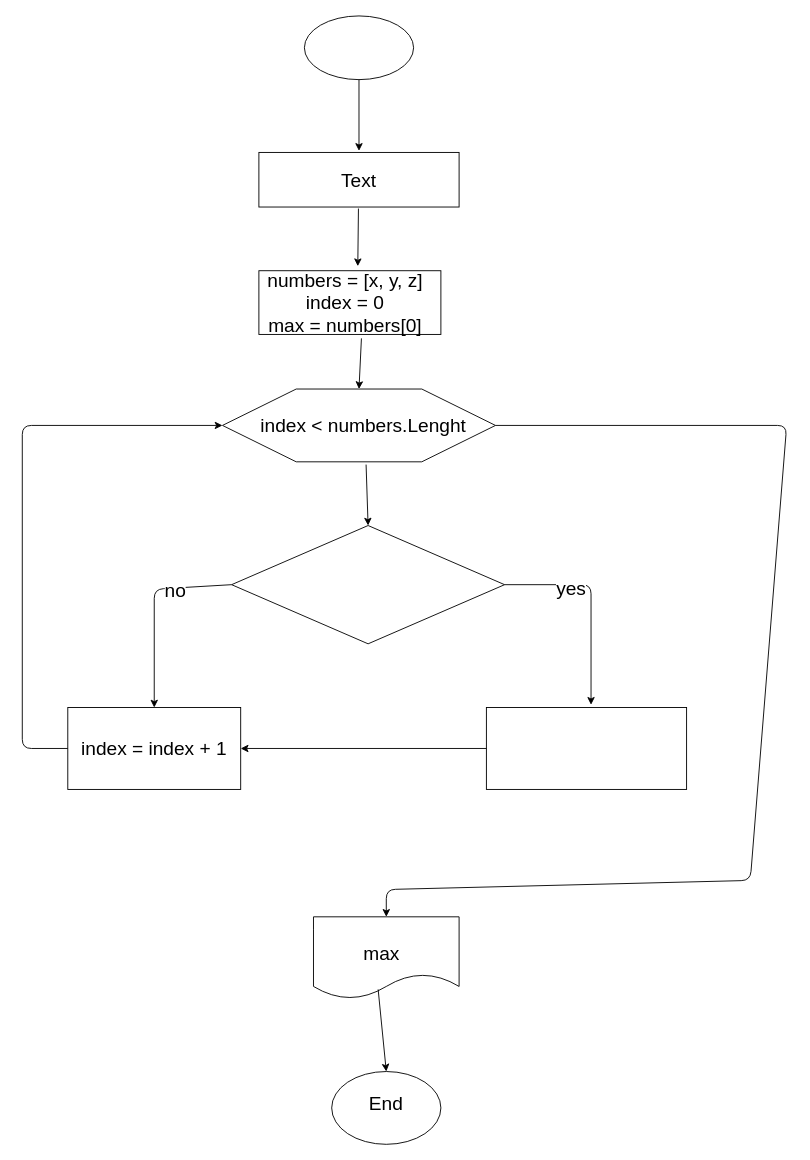
This 810x1160 diagram has some shape labels left out. The centre of each missing label's shape, as x and y in pixels:
max = numbers[index]: the point at 586,748
numbers[index] > max: the point at 368,584
Start: the point at 358,47
